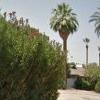Palm tree: (49, 2, 85, 65)
